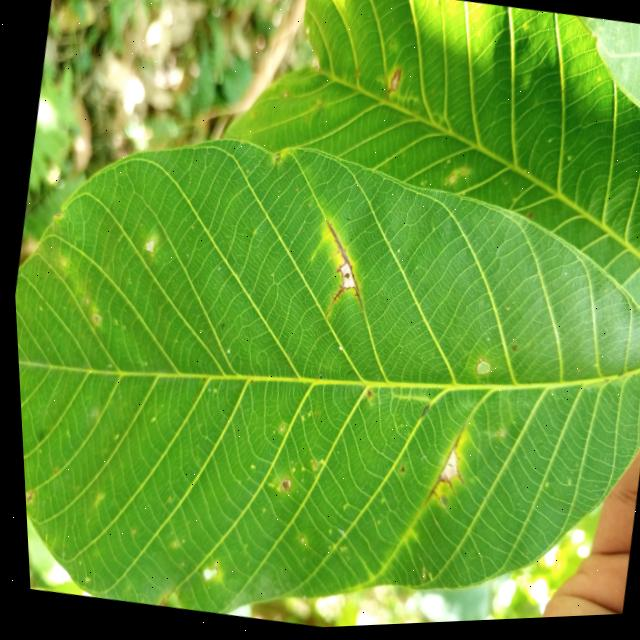Colletotrichum: (470, 363, 487, 381), (274, 479, 286, 493), (361, 391, 368, 400)
Corynespora: (306, 220, 377, 325), (413, 420, 471, 514), (318, 283, 344, 321)
Leaf-Blight: (433, 452, 455, 485), (333, 264, 356, 291)
